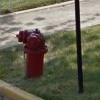Hydrant: (13, 20, 61, 88)
